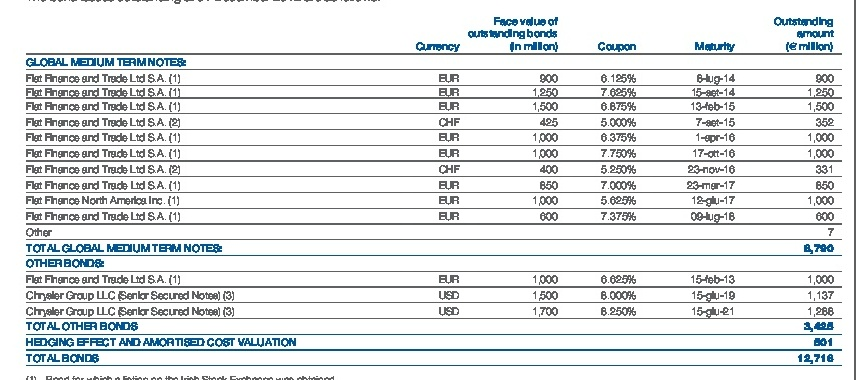table: (0, 0, 859, 380)
